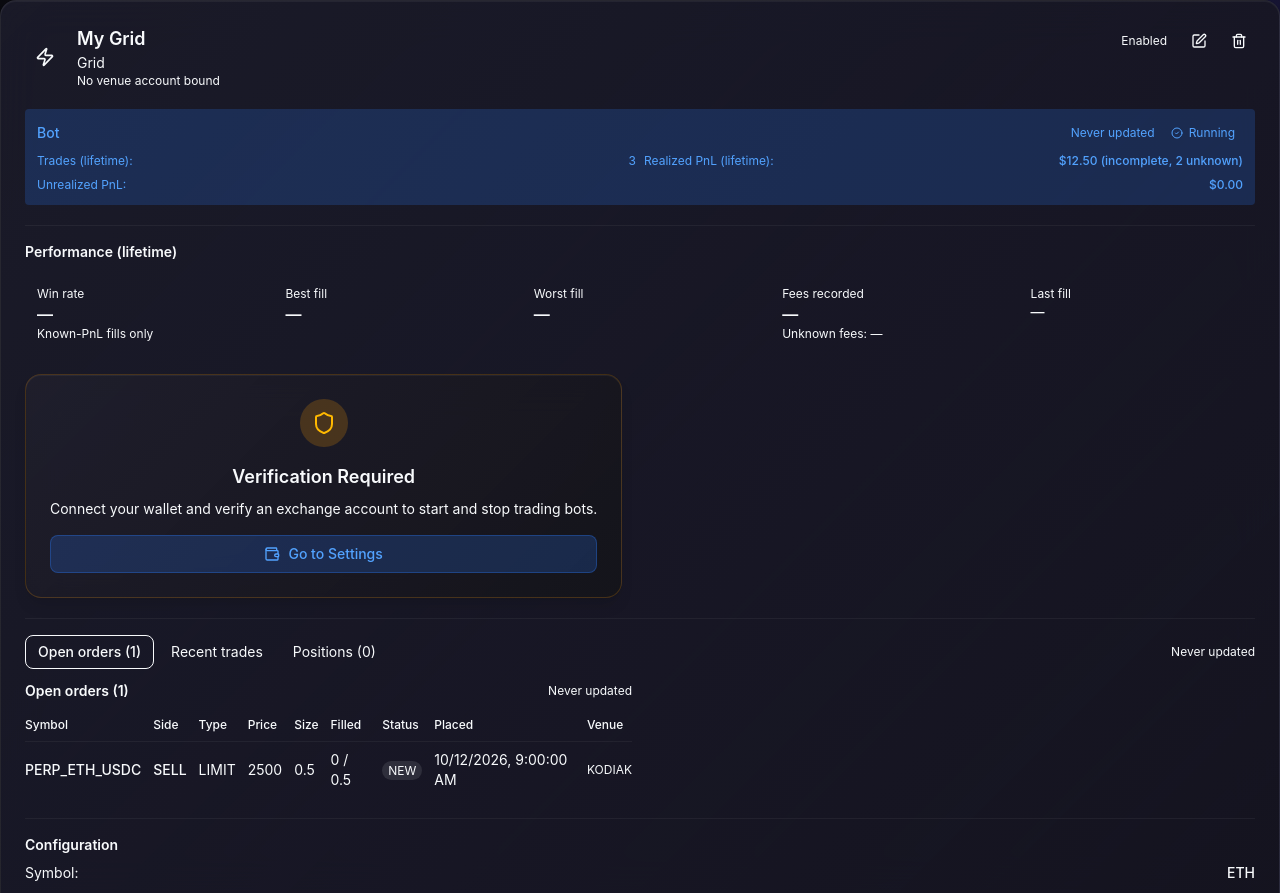
Test: StrategyWorkspace › offers both execution tabs; switching reveals the fills panel
Expected: the text "2500" is shown, [248, 742, 294, 798]
Click the tab "Recent trades". click: (217, 652)
box: [158, 635, 276, 669]
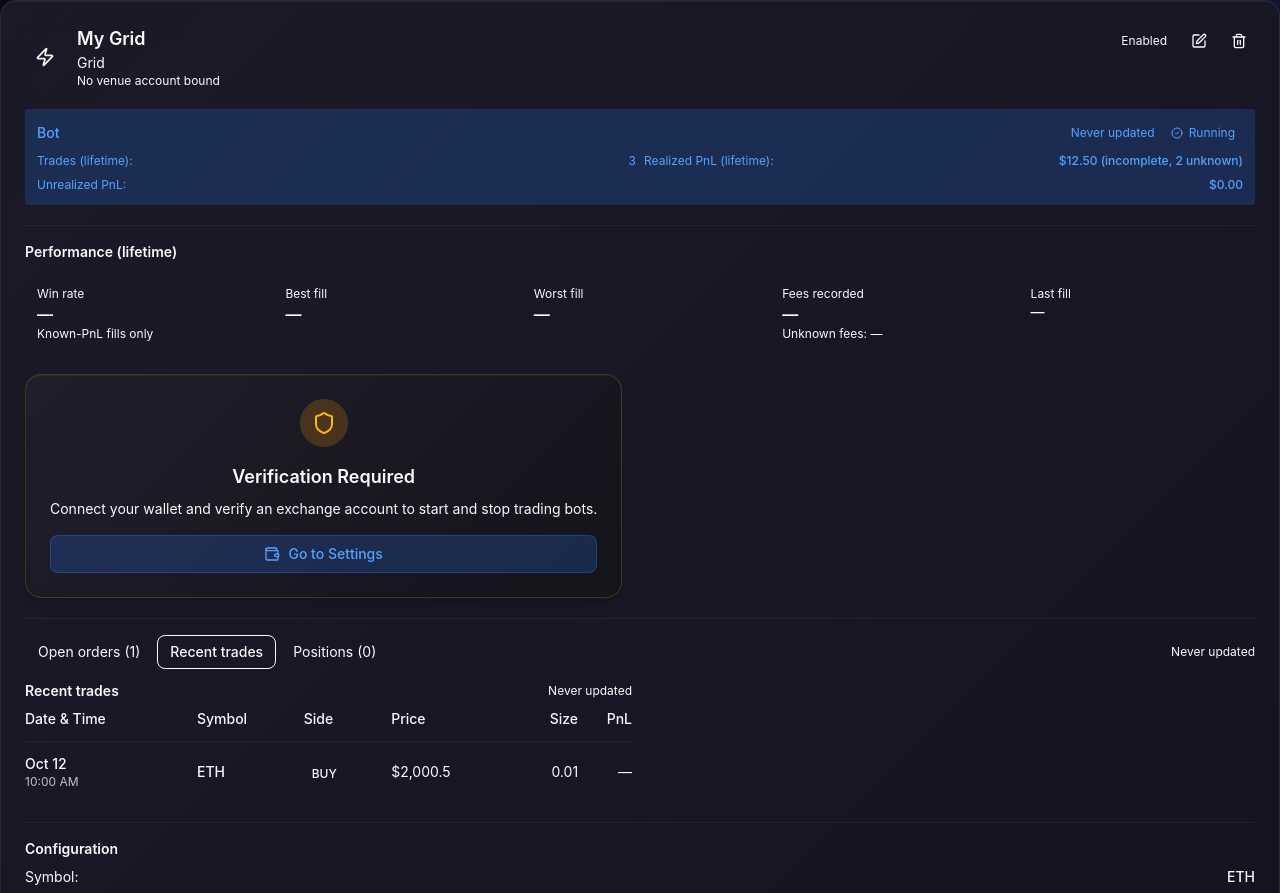
Expected: the text "$2,000.5" is shown, [391, 742, 518, 802]
